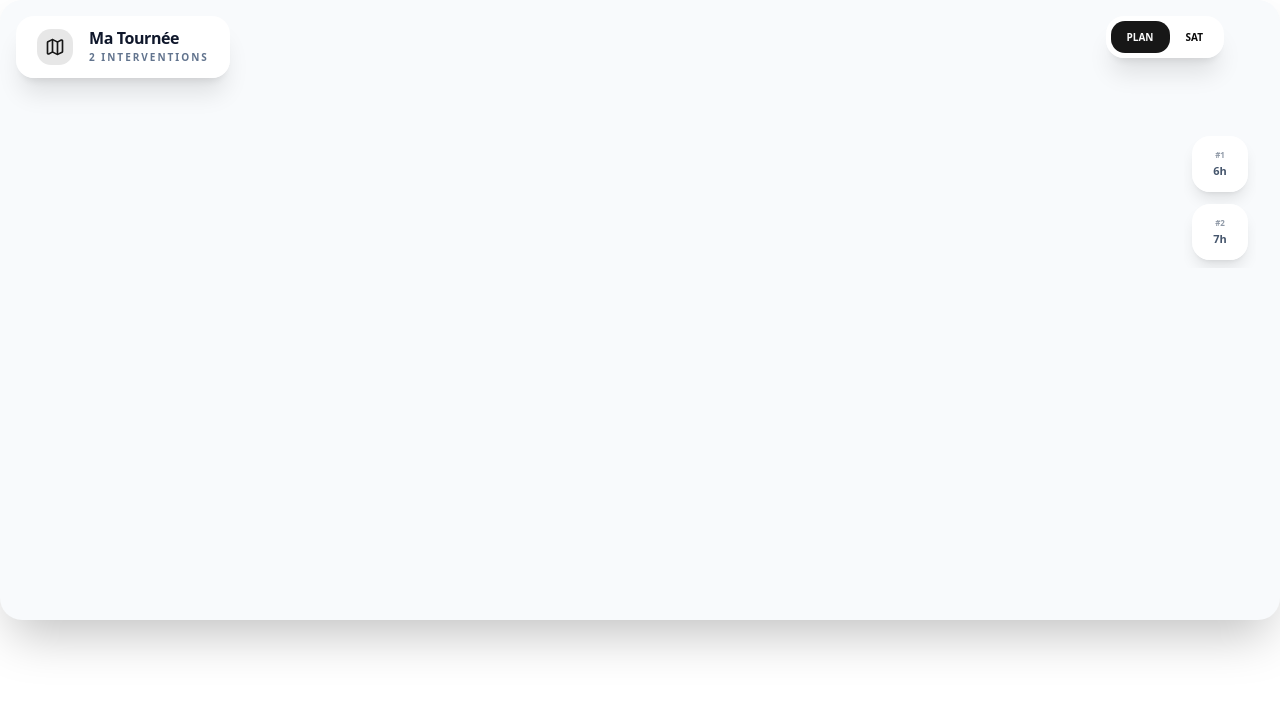
Scenario: TechnicianMapPage › permet de sélectionner une intervention via la liste rapide
Click the button "#1 6h" at x=1220, y=164, box left=1192, top=136, right=1248, bottom=192
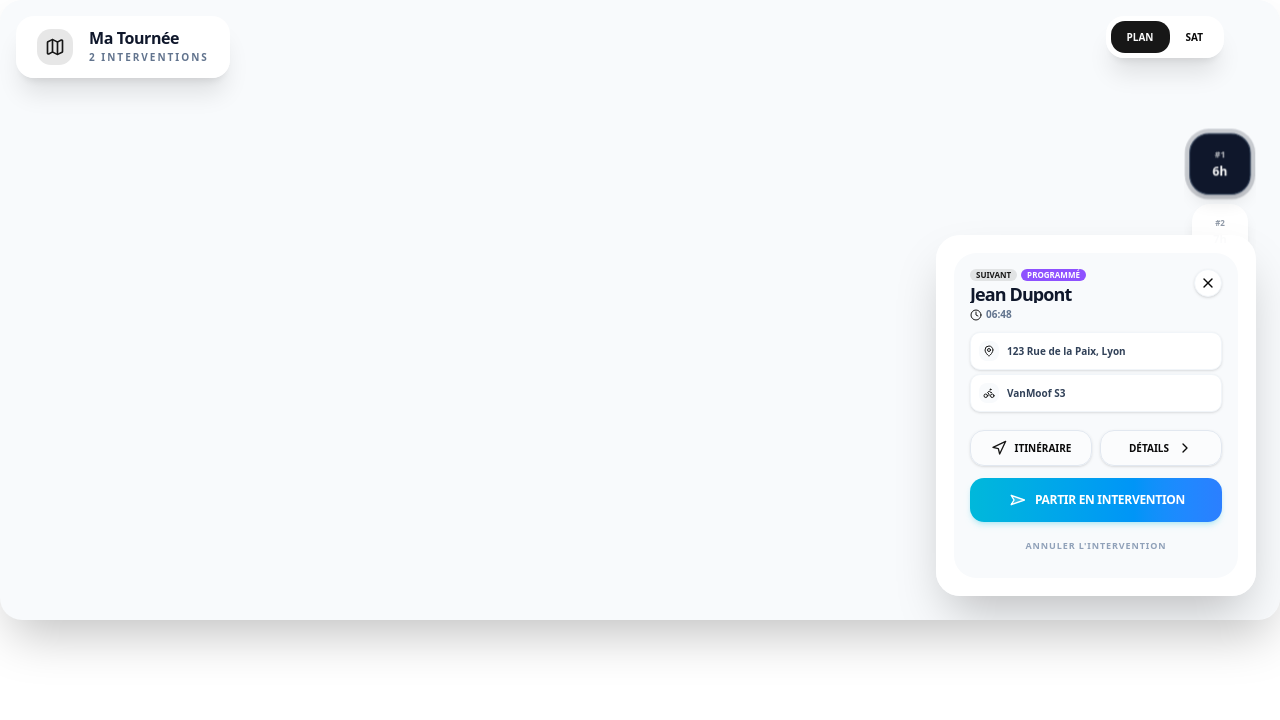
Now the heading "Jean Dupont" is shown, box left=970, top=285, right=1086, bottom=303
Now the text "PROGRAMMÉ" is shown, box left=1021, top=269, right=1086, bottom=281
